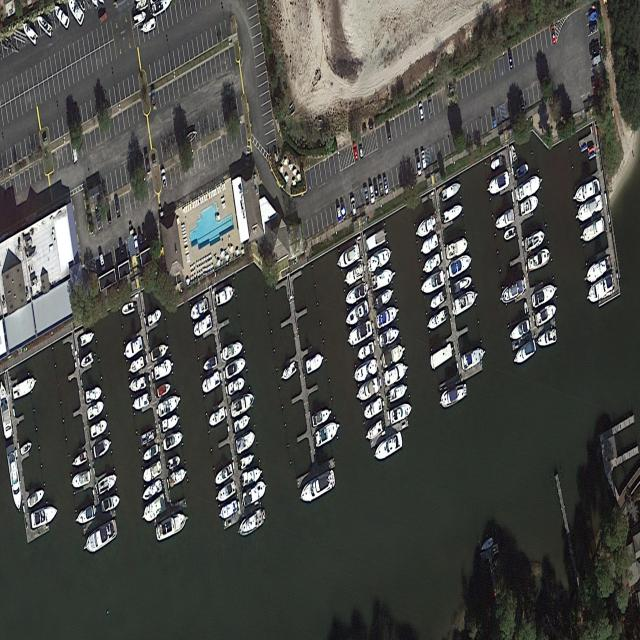ship: (299, 468, 338, 507), (83, 517, 119, 556), (5, 442, 24, 515), (155, 509, 191, 544), (373, 430, 405, 465), (584, 272, 615, 307), (236, 506, 268, 539), (345, 318, 375, 350), (583, 255, 612, 288), (515, 170, 543, 204), (438, 381, 468, 412), (572, 177, 601, 208), (241, 478, 269, 510), (531, 277, 558, 310), (140, 493, 167, 526), (575, 193, 603, 224), (452, 287, 480, 318), (370, 263, 398, 294), (500, 276, 528, 306), (345, 297, 371, 329), (428, 342, 455, 372), (448, 250, 475, 280), (314, 419, 341, 449), (229, 389, 255, 420), (486, 169, 511, 201), (343, 279, 370, 308), (355, 375, 382, 404), (379, 341, 406, 370), (512, 338, 538, 368), (335, 242, 361, 272), (579, 217, 606, 245), (383, 360, 410, 388), (367, 245, 393, 274), (376, 302, 402, 331), (414, 211, 438, 242), (156, 391, 183, 418), (389, 399, 415, 427), (533, 300, 558, 329), (461, 343, 486, 372), (0, 379, 12, 438), (420, 269, 446, 296), (352, 357, 378, 384), (31, 504, 59, 529), (341, 261, 365, 290), (373, 283, 396, 313), (526, 247, 552, 273), (12, 376, 38, 402), (524, 226, 547, 255), (366, 224, 389, 253), (362, 394, 385, 423), (441, 200, 465, 227), (445, 234, 469, 261), (140, 477, 164, 504), (223, 356, 247, 383), (214, 282, 237, 310), (494, 206, 516, 235), (189, 295, 211, 324), (234, 428, 256, 457), (378, 323, 402, 349), (122, 335, 145, 362), (509, 315, 531, 343), (162, 428, 185, 454), (426, 308, 449, 333), (439, 179, 462, 204), (152, 356, 175, 381), (240, 464, 263, 489), (220, 340, 243, 365), (364, 418, 386, 444), (20, 17, 39, 47), (97, 469, 118, 496), (194, 313, 214, 341), (311, 404, 334, 428), (100, 492, 122, 517), (419, 232, 439, 259), (202, 369, 222, 396), (386, 381, 409, 404), (74, 504, 96, 528), (224, 375, 246, 399), (92, 436, 113, 461), (214, 462, 234, 488), (280, 357, 299, 384), (215, 481, 237, 504), (453, 273, 474, 297), (356, 338, 377, 362), (142, 459, 162, 484), (53, 2, 70, 31), (422, 252, 442, 276), (71, 468, 91, 492), (232, 412, 252, 436), (305, 351, 324, 376), (36, 12, 54, 38), (536, 328, 558, 349), (168, 466, 189, 488), (161, 410, 181, 433), (86, 399, 106, 422), (89, 416, 109, 439), (150, 340, 170, 363), (219, 499, 239, 522), (27, 486, 46, 510), (520, 194, 540, 216), (146, 305, 165, 328), (208, 406, 226, 430), (128, 353, 146, 376), (132, 392, 150, 415), (141, 442, 160, 463), (238, 450, 256, 471), (128, 375, 148, 393), (429, 290, 445, 312), (140, 426, 156, 448), (79, 328, 96, 348), (156, 380, 173, 399), (140, 17, 157, 36), (202, 353, 218, 373), (85, 385, 102, 403), (514, 161, 530, 180), (166, 452, 182, 471), (72, 451, 88, 470), (133, 8, 147, 28), (80, 351, 95, 369), (121, 301, 137, 317), (489, 155, 504, 172), (20, 438, 33, 456), (185, 127, 198, 145), (480, 536, 493, 553), (503, 226, 516, 242), (511, 143, 518, 164), (587, 10, 597, 23)
small-vehicle: (114, 196, 122, 220), (71, 141, 79, 164), (415, 153, 423, 176), (507, 49, 515, 71), (384, 120, 392, 142), (98, 252, 106, 273), (133, 235, 140, 258), (144, 153, 151, 176), (98, 10, 108, 26), (590, 42, 601, 56), (383, 174, 390, 196), (350, 195, 357, 217), (95, 211, 103, 230), (550, 24, 557, 45), (519, 92, 526, 113), (427, 95, 434, 116), (421, 149, 428, 170), (352, 141, 359, 162), (160, 168, 167, 189), (592, 76, 602, 90), (105, 205, 112, 225), (418, 102, 425, 122), (340, 200, 347, 220), (151, 88, 157, 111), (118, 241, 125, 260), (591, 54, 601, 67), (378, 177, 384, 198), (363, 186, 370, 204), (373, 180, 379, 200), (358, 139, 364, 159), (369, 184, 375, 204), (143, 229, 149, 249), (589, 21, 598, 34), (336, 205, 342, 223), (491, 110, 497, 127), (139, 233, 144, 252)
